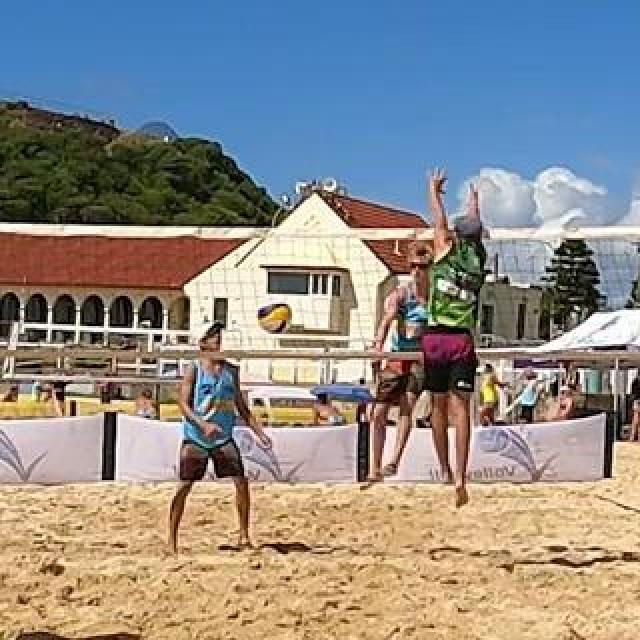volleyball: (258, 301, 292, 333)
